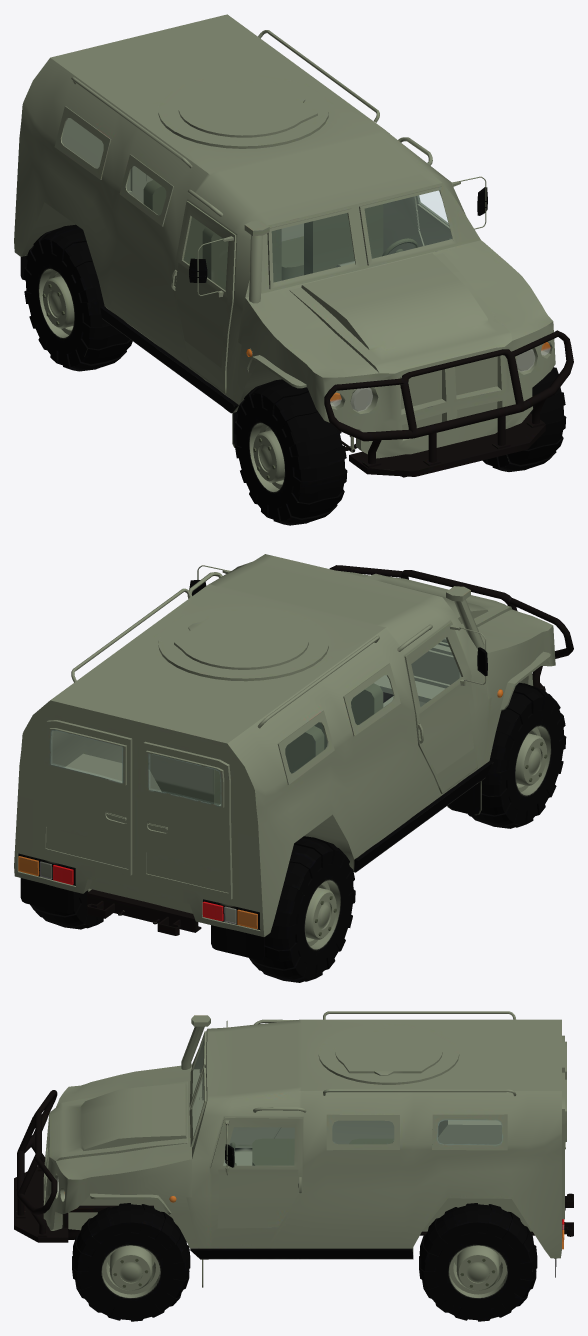
3 views of the same model, one above another, from view 1: azimuth 30°, elevation 25°; view 2: azimuth 150°, elevation 25°; view 3: azimuth 270°, elevation 25° (orthographic). The views are drawn at different scales.
Visible parts, largest first — view 1: carro_low, carro_0_low; view 2: carro_low; view 3: carro_low.
Boxes of the visible parts, x1=… form: carro_low: x1=14, y1=14, x2=573, y2=525; carro_0_low: x1=400, y1=356, x2=497, y2=429; carro_low: x1=14, y1=554, x2=573, y2=982; carro_low: x1=14, y1=1011, x2=573, y2=1321.
Size of the model in its own units: 158 by 136 by 311.
Materials: 1 (1 with a texture image).
